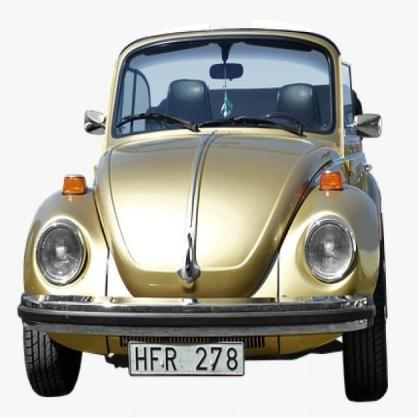car: (17, 32, 392, 406)
